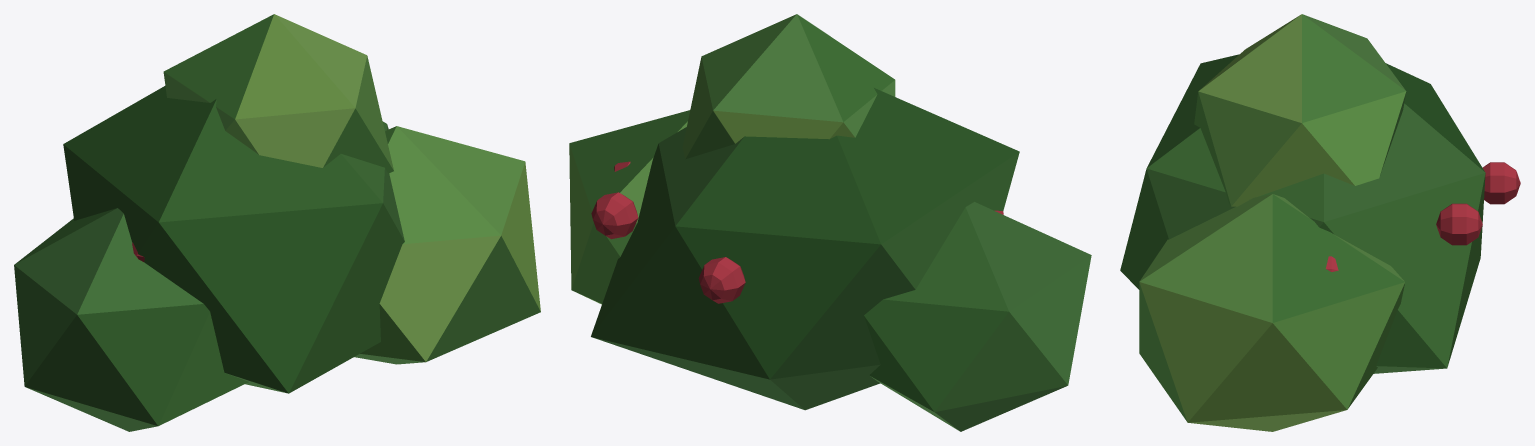
File: BerryBush.glb
3 renders of one model, left to right at view 1: azimuth 30°, elevation 25°; view 2: azimuth 150°, elevation 25°; view 3: azimuth 270°, elevation 25°, orthographic. The views are drawn at different scales.
Parts seen in each view (by area): view 1: Body; view 2: Body; view 3: Body.
Part boxes in pixels (x1,y1,x2,y2): Body: (14, 14, 540, 431); Body: (569, 14, 1091, 431); Body: (1120, 14, 1520, 431).
Size of the model in its own units: 3.89 by 2.83 by 2.74.
